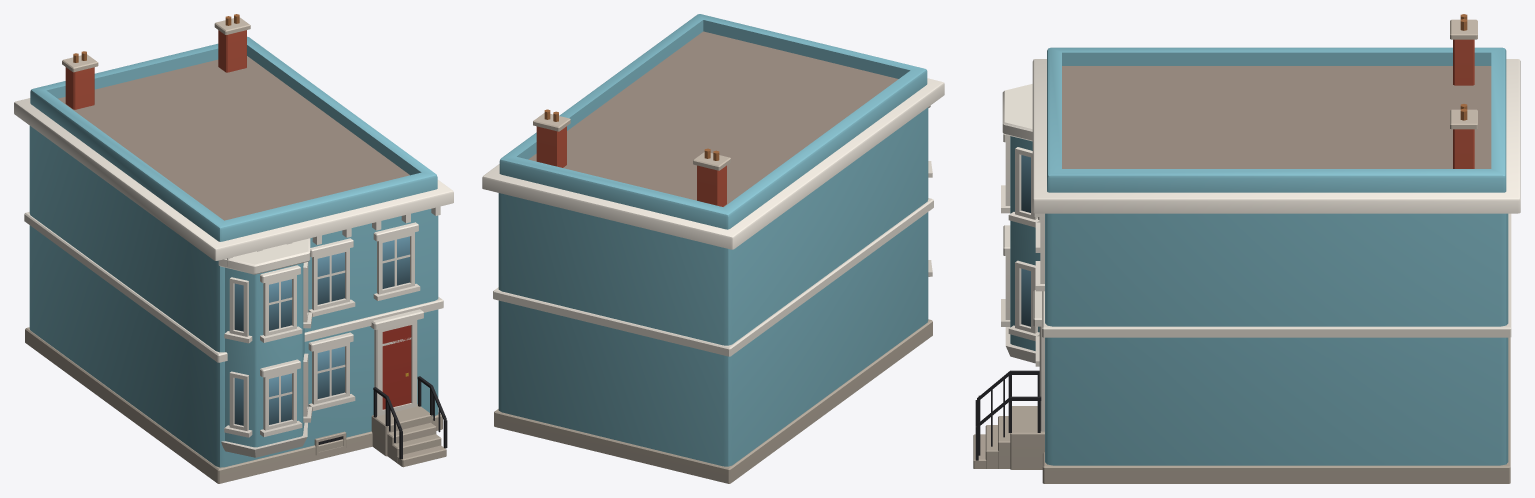
The model's file is beacon_n7.glb.
3 renders of one model, left to right at view 1: azimuth 30°, elevation 25°; view 2: azimuth 150°, elevation 25°; view 3: azimuth 270°, elevation 25°, orthographic. The views are drawn at different scales.
Visible parts, largest first — view 1: beacon_n7; view 2: beacon_n7; view 3: beacon_n7.
Part boxes in pixels (<box>): beacon_n7: <box>14,14,453,483</box>; beacon_n7: <box>482,14,944,483</box>; beacon_n7: <box>973,14,1520,483</box>.
Bounding box in the file's own units: 8.64 × 10.14 × 14.18.
Materials: 1 (1 with a texture image).
